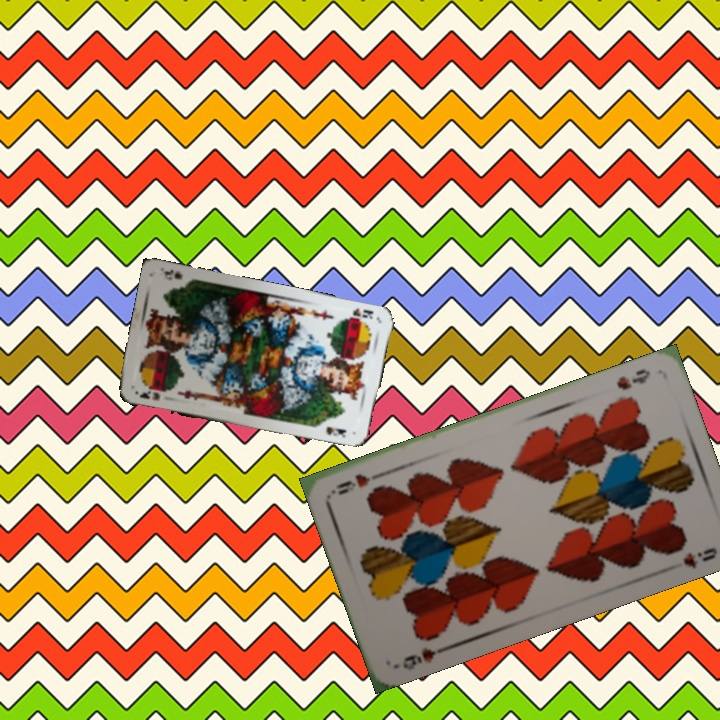H9: (392, 642, 449, 673), (612, 364, 653, 393)
SK: (339, 304, 376, 325), (135, 384, 168, 403)
